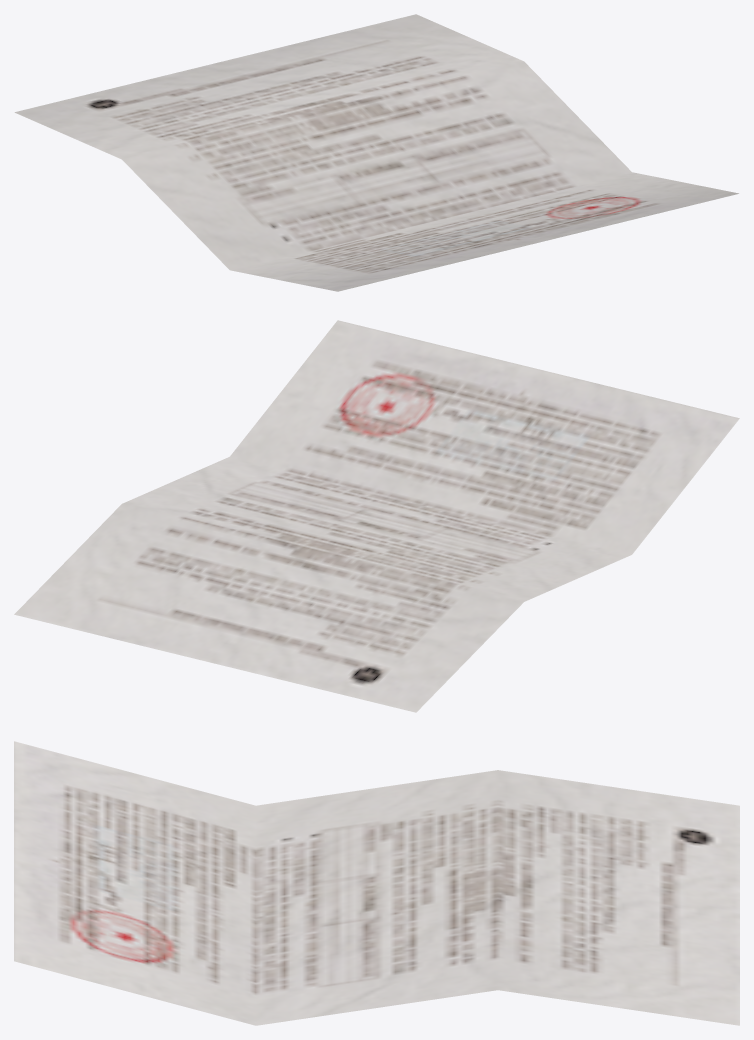
Rendered from XiuXiShi_01_zhangdan_01.FBX.
3 views of the same model, one above another, from view 1: azimuth 30°, elevation 25°; view 2: azimuth 150°, elevation 25°; view 3: azimuth 270°, elevation 25° (orthographic). The views are drawn at different scales.
Parts seen in each view (by area): view 1: XiuXiShi_zhangdan; view 2: XiuXiShi_zhangdan; view 3: XiuXiShi_zhangdan.
Part boxes in pixels (x1,y1,x2,y2): XiuXiShi_zhangdan: [14, 14, 738, 291]; XiuXiShi_zhangdan: [14, 320, 739, 712]; XiuXiShi_zhangdan: [14, 741, 739, 1025].
Bounding box in the file's own units: 95.58 × 13.06 × 133.
